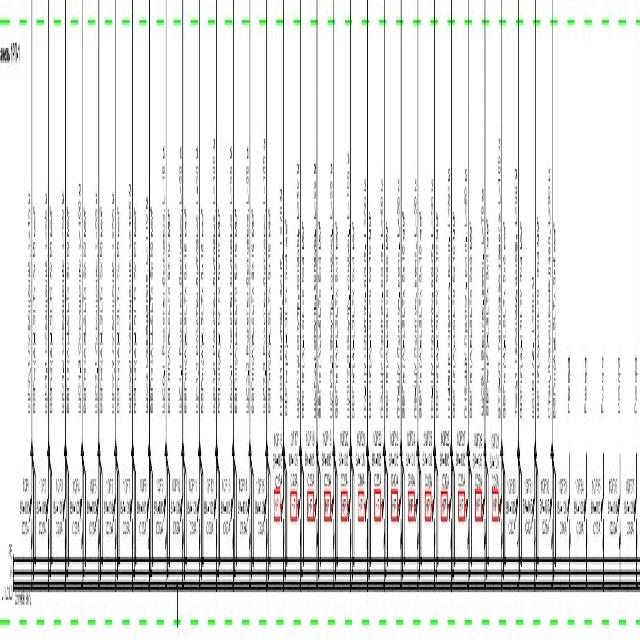-: (220, 496, 231, 540), (607, 496, 618, 540), (103, 496, 114, 540), (136, 496, 147, 540), (153, 496, 164, 540), (203, 495, 214, 538), (489, 451, 500, 494), (272, 451, 283, 494), (371, 447, 382, 490), (321, 446, 332, 489), (472, 451, 483, 494), (539, 495, 550, 538), (421, 447, 432, 490), (439, 447, 450, 490), (506, 498, 517, 540), (86, 498, 97, 540), (573, 498, 584, 540), (237, 498, 248, 540), (288, 450, 299, 492), (52, 498, 63, 540), (36, 498, 47, 540), (522, 498, 533, 540), (338, 448, 348, 492), (187, 496, 197, 540), (406, 448, 416, 492), (20, 496, 30, 540), (591, 495, 601, 538), (170, 494, 180, 537), (388, 447, 398, 490), (355, 447, 365, 490), (304, 446, 314, 489), (120, 498, 130, 540), (624, 498, 634, 540), (557, 498, 567, 540), (70, 498, 80, 540), (255, 498, 265, 540), (455, 450, 465, 492)
ITU: (424, 486, 432, 524), (323, 485, 331, 523), (474, 488, 482, 526), (440, 488, 448, 526), (491, 485, 499, 523), (340, 488, 348, 526), (273, 485, 281, 523), (357, 485, 365, 523), (458, 486, 466, 524), (407, 486, 415, 524), (307, 488, 314, 526), (391, 486, 398, 524), (374, 486, 381, 524), (290, 488, 297, 526)
QF: (515, 492, 520, 550), (532, 489, 536, 547), (29, 492, 33, 550), (46, 492, 50, 550), (62, 494, 66, 552), (80, 492, 84, 550), (96, 492, 100, 550), (112, 495, 116, 553), (130, 492, 134, 550), (147, 492, 151, 550), (163, 489, 167, 547), (180, 490, 184, 548), (214, 490, 218, 548), (230, 489, 234, 547), (248, 492, 252, 550), (264, 488, 268, 546), (280, 492, 284, 550), (298, 492, 302, 550), (314, 492, 318, 550), (331, 490, 335, 548), (348, 492, 352, 550), (364, 494, 368, 552), (382, 494, 386, 552), (398, 494, 402, 552), (415, 492, 419, 550), (432, 492, 436, 550), (448, 489, 452, 547), (465, 490, 469, 548), (482, 492, 486, 550), (499, 492, 503, 550), (549, 492, 553, 550), (566, 492, 570, 550), (583, 492, 587, 550), (600, 492, 604, 550), (616, 492, 620, 550), (634, 492, 638, 550), (197, 492, 200, 550)
